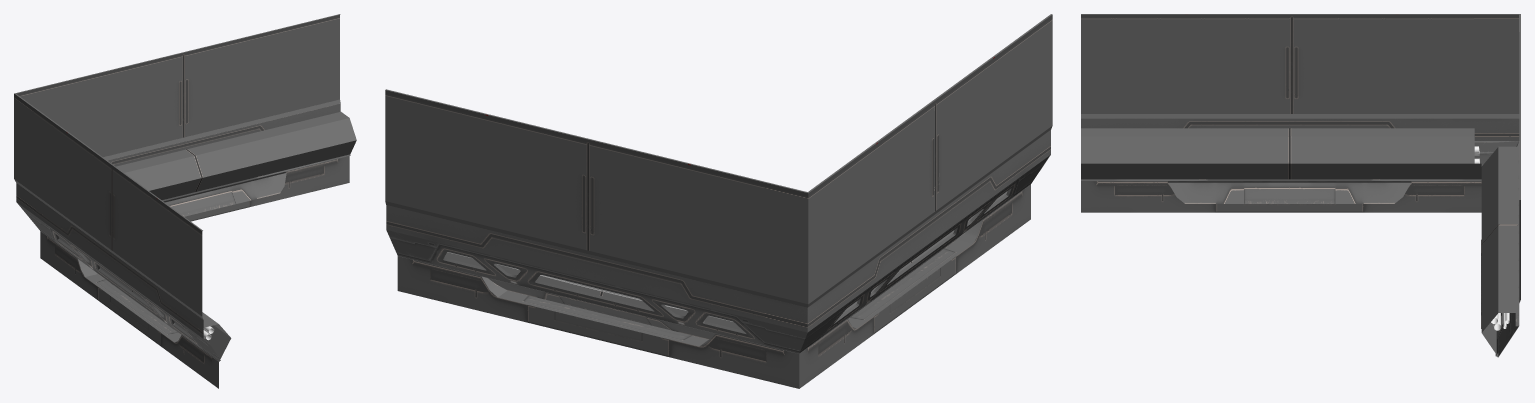
The model's file is TopCables_Corner_Square_Outer.gltf.
The picture shows the model from 3 angles, left to right: view 1: azimuth 30°, elevation 25°; view 2: azimuth 150°, elevation 25°; view 3: azimuth 270°, elevation 25°; orthographic projection. The views are drawn at different scales.
Visible parts, largest first — view 1: TopCables_Corner_Square_Outer; view 2: TopCables_Corner_Square_Outer; view 3: TopCables_Corner_Square_Outer.
Part boxes in pixels (x1,y1,x2,y2): TopCables_Corner_Square_Outer: [14, 14, 356, 388]; TopCables_Corner_Square_Outer: [385, 14, 1052, 388]; TopCables_Corner_Square_Outer: [1081, 14, 1520, 357].
Size of the model in its own units: 4.22 by 2 by 4.22.
Materials: 4 (3 with a texture image).
